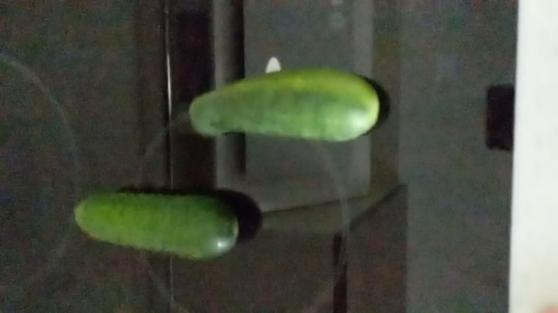cucumber: (190, 70, 382, 144), (72, 190, 240, 259)
